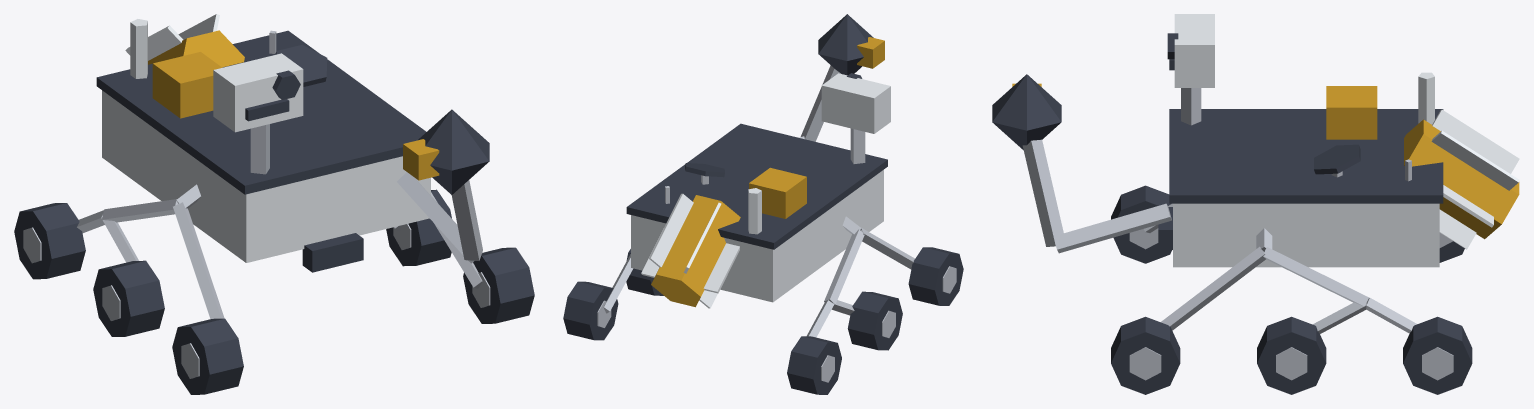
File: Rover.fbx
3 views of the same model, side by side, from view 1: azimuth 30°, elevation 25°; view 2: azimuth 150°, elevation 25°; view 3: azimuth 270°, elevation 25° (orthographic). The views are drawn at different scales.
Visible parts, largest first — view 1: SM_Rover_MAT_HullDark, SM_Rover_MAT_HullWhite, SM_Rover_MAT_HullGrey, SM_Rover_MAT_Gold; view 2: SM_Rover_MAT_HullDark, SM_Rover_MAT_HullWhite, SM_Rover_MAT_Gold, SM_Rover_MAT_HullGrey; view 3: SM_Rover_MAT_HullDark, SM_Rover_MAT_HullWhite, SM_Rover_MAT_HullGrey, SM_Rover_MAT_Gold.
Part boxes in pixels (x1,y1,x2,y2): SM_Rover_MAT_HullDark: [14, 30, 534, 394]; SM_Rover_MAT_HullWhite: [102, 14, 430, 262]; SM_Rover_MAT_HullGrey: [23, 30, 490, 378]; SM_Rover_MAT_Gold: [148, 30, 439, 180]; SM_Rover_MAT_HullDark: [563, 14, 963, 394]; SM_Rover_MAT_HullWhite: [631, 73, 890, 308]; SM_Rover_MAT_Gold: [651, 37, 884, 307]; SM_Rover_MAT_HullGrey: [597, 65, 956, 382]; SM_Rover_MAT_HullDark: [992, 33, 1472, 394]; SM_Rover_MAT_HullWhite: [1173, 14, 1519, 267]; SM_Rover_MAT_HullGrey: [1022, 88, 1453, 380]; SM_Rover_MAT_Gold: [1012, 83, 1519, 239].
Bounding box in the file's own units: 2.68 × 2.23 × 4.05.
